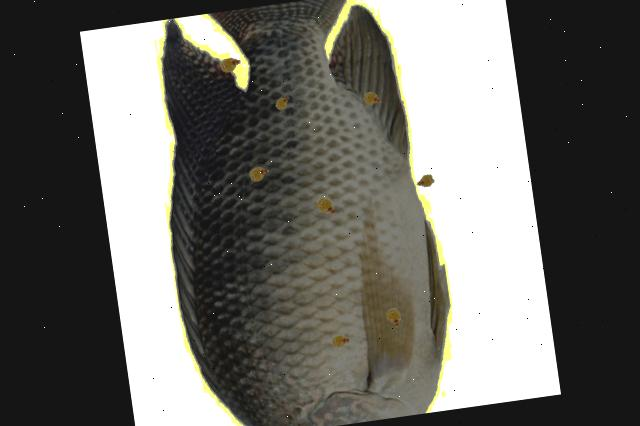Parasitic Disease: (163, 0, 448, 426)
